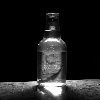beer: (37, 10, 69, 93)
